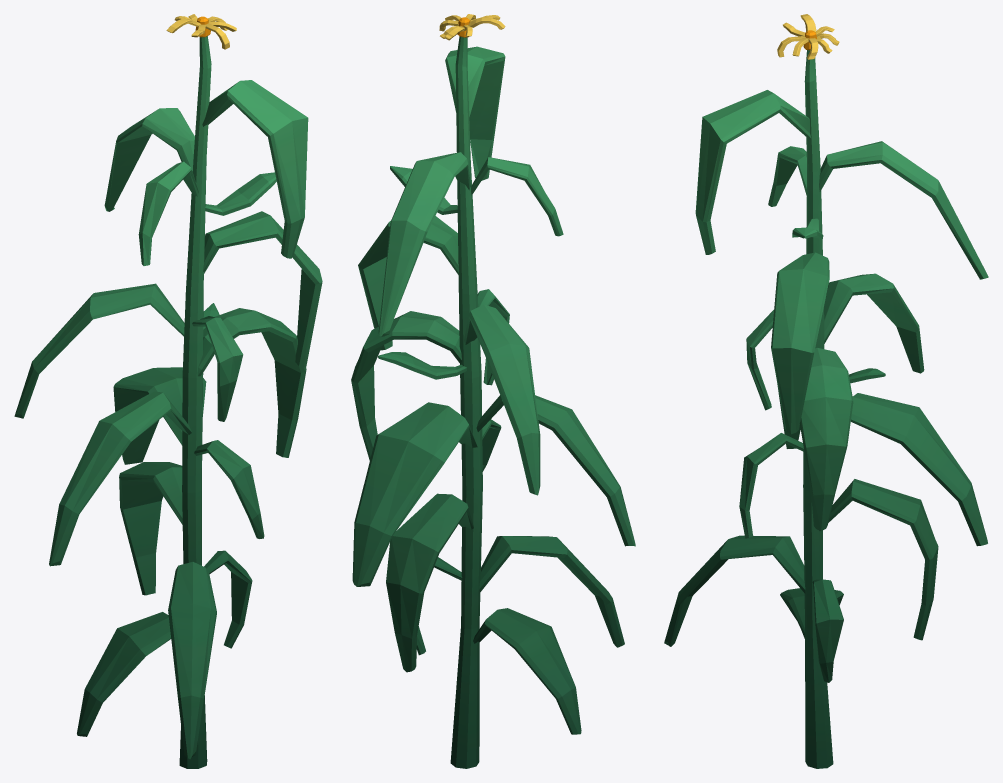
Rendered from crop_corn_stage2.glb.
3 renders of one model, left to right at view 1: azimuth 30°, elevation 25°; view 2: azimuth 150°, elevation 25°; view 3: azimuth 270°, elevation 25°, orthographic.
Parts seen in each view (by area): view 1: crop_corn_stage2; view 2: crop_corn_stage2; view 3: crop_corn_stage2.
Part boxes in pixels (x1,y1,x2,y2): crop_corn_stage2: [14, 14, 322, 768]; crop_corn_stage2: [351, 14, 635, 768]; crop_corn_stage2: [664, 14, 988, 768].
Size of the model in its own units: 0.301 by 0.8 by 0.3191.
1 material, 1 textured.
